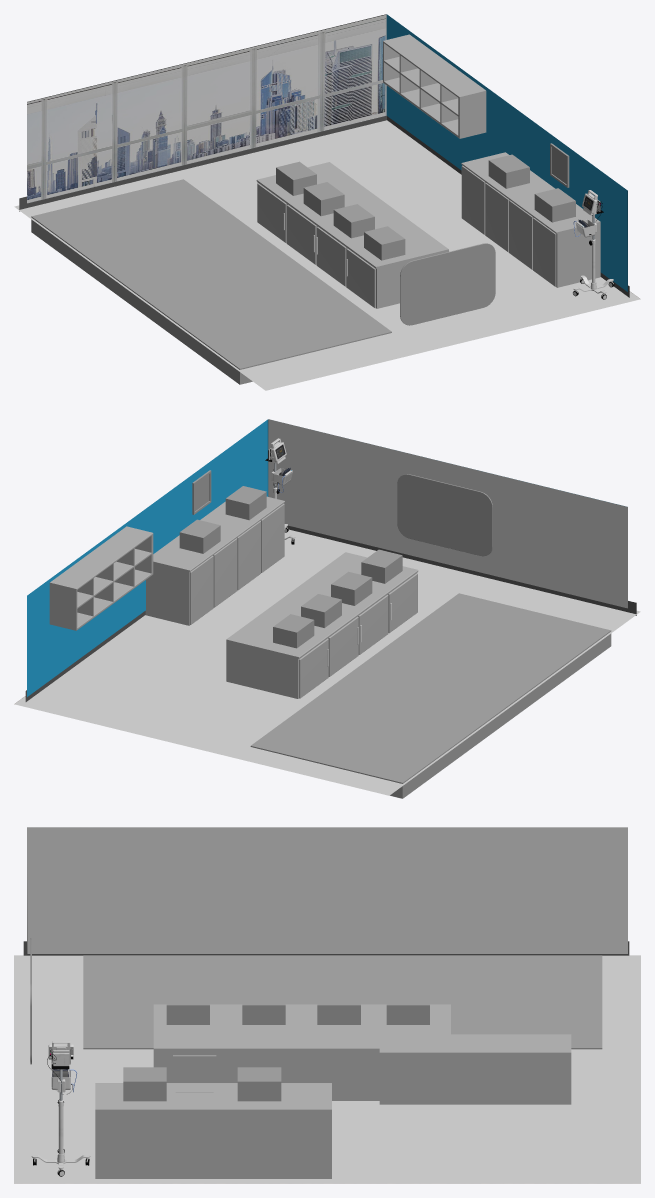
Rendered from Room_ttt.glb.
The picture shows the model from 3 angles, top to bottom: view 1: azimuth 30°, elevation 25°; view 2: azimuth 150°, elevation 25°; view 3: azimuth 270°, elevation 25°; orthographic projection. The views are drawn at different scales.
Parts seen in each view (by area): view 1: Room, pCube74, pCube59, pCube64, pCube58, pCube73, pCube72, pCube69, pCube70, pCube71, pCube68, pCube67 (+2 smaller); view 2: Room, pCube74, pCube59, pCube64, pCube58, pCube73, pCube72, pCube66, pCube71, pCube70, pCube69, pCube68 (+2 smaller); view 3: Room, pCube74, pCube64, pCube59, pCube58, pCube71, pCube70, pCube66, pCube67, pCube68, pCube69, pCube72.
Boxes of the visible parts, bbox=[...] form: Room: bbox=[14, 14, 640, 390]; pCube74: bbox=[31, 179, 391, 384]; pCube59: bbox=[256, 162, 448, 308]; pCube64: bbox=[461, 152, 600, 287]; pCube58: bbox=[383, 34, 486, 138]; pCube73: bbox=[400, 243, 495, 325]; pCube72: bbox=[19, 115, 629, 297]; pCube69: bbox=[364, 226, 405, 260]; pCube70: bbox=[534, 188, 575, 222]; pCube71: bbox=[488, 154, 529, 188]; pCube68: bbox=[333, 204, 374, 238]; pCube67: bbox=[303, 182, 344, 216]; Room: bbox=[14, 419, 640, 795]; pCube74: bbox=[250, 593, 611, 798]; pCube59: bbox=[226, 552, 418, 698]; pCube64: bbox=[145, 496, 284, 625]; pCube58: bbox=[49, 526, 153, 630]; pCube73: bbox=[397, 474, 492, 556]; pCube72: bbox=[25, 525, 636, 701]; pCube66: bbox=[273, 614, 314, 648]; pCube71: bbox=[179, 519, 220, 553]; pCube70: bbox=[225, 486, 266, 520]; pCube69: bbox=[361, 549, 402, 583]; pCube68: bbox=[331, 571, 372, 605]; Room: bbox=[14, 827, 640, 1183]; pCube74: bbox=[83, 955, 602, 1049]; pCube64: bbox=[95, 1083, 331, 1178]; pCube59: bbox=[153, 1004, 450, 1100]; pCube58: bbox=[379, 1034, 571, 1104]; pCube71: bbox=[237, 1067, 281, 1101]; pCube70: bbox=[123, 1067, 166, 1101]; pCube66: bbox=[386, 991, 429, 1024]; pCube67: bbox=[317, 991, 360, 1024]; pCube68: bbox=[242, 991, 285, 1024]; pCube69: bbox=[166, 991, 209, 1024]; pCube72: bbox=[23, 941, 629, 955].
Bounding box in the file's own units: 12.43 × 3.85 × 14.44.
Materials: 21 (9 with a texture image).
